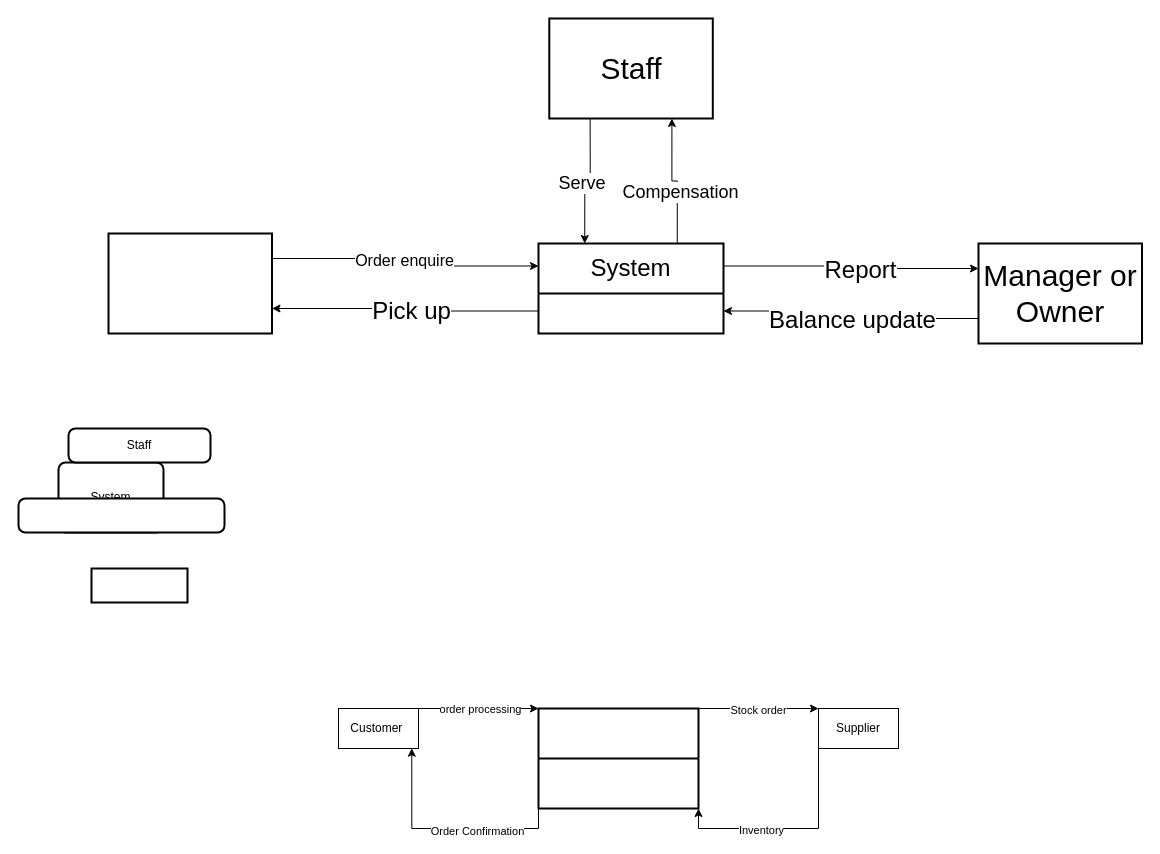
Some shapes in this 1160 by 854 pixel diagram are drawn without their labels. Each missing label, with the centre of its shape:
Beverage and Food serving: the point at 121,515
Customer /Delivery: the point at 189,283
Destination: the point at 139,585
Processes: the point at 618,758
